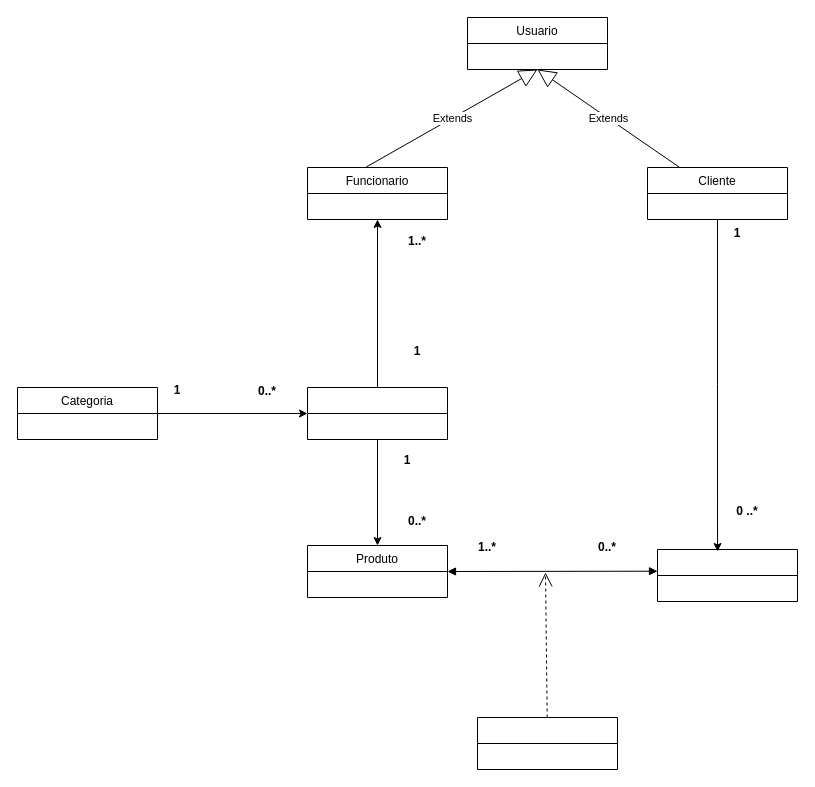
The diagram is 815 pixels wide and 787 high, and some of its shapes have lost their labels. Each missing label, with the box of its shape:
Compra: (656, 548, 798, 602)
Empresa: (306, 386, 448, 440)
Itens: (476, 716, 618, 770)
